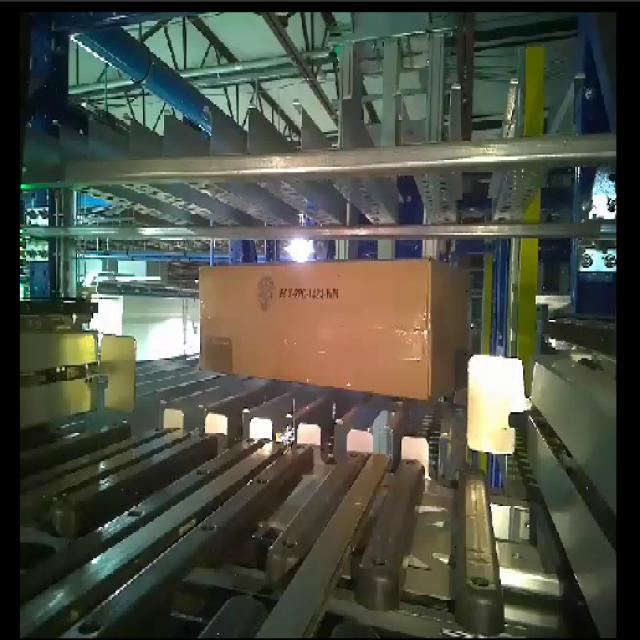box: (199, 257, 431, 398)
